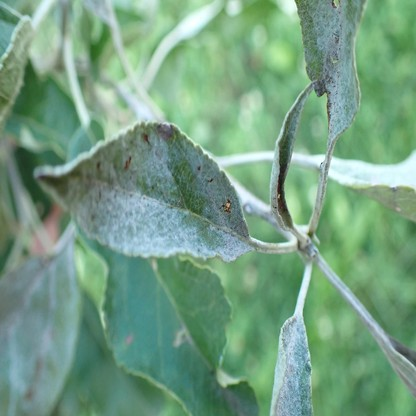frogeye: (126, 335, 133, 345)
powder: (34, 122, 251, 259), (294, 1, 368, 140), (271, 80, 318, 229), (271, 317, 314, 416), (0, 16, 34, 121)
